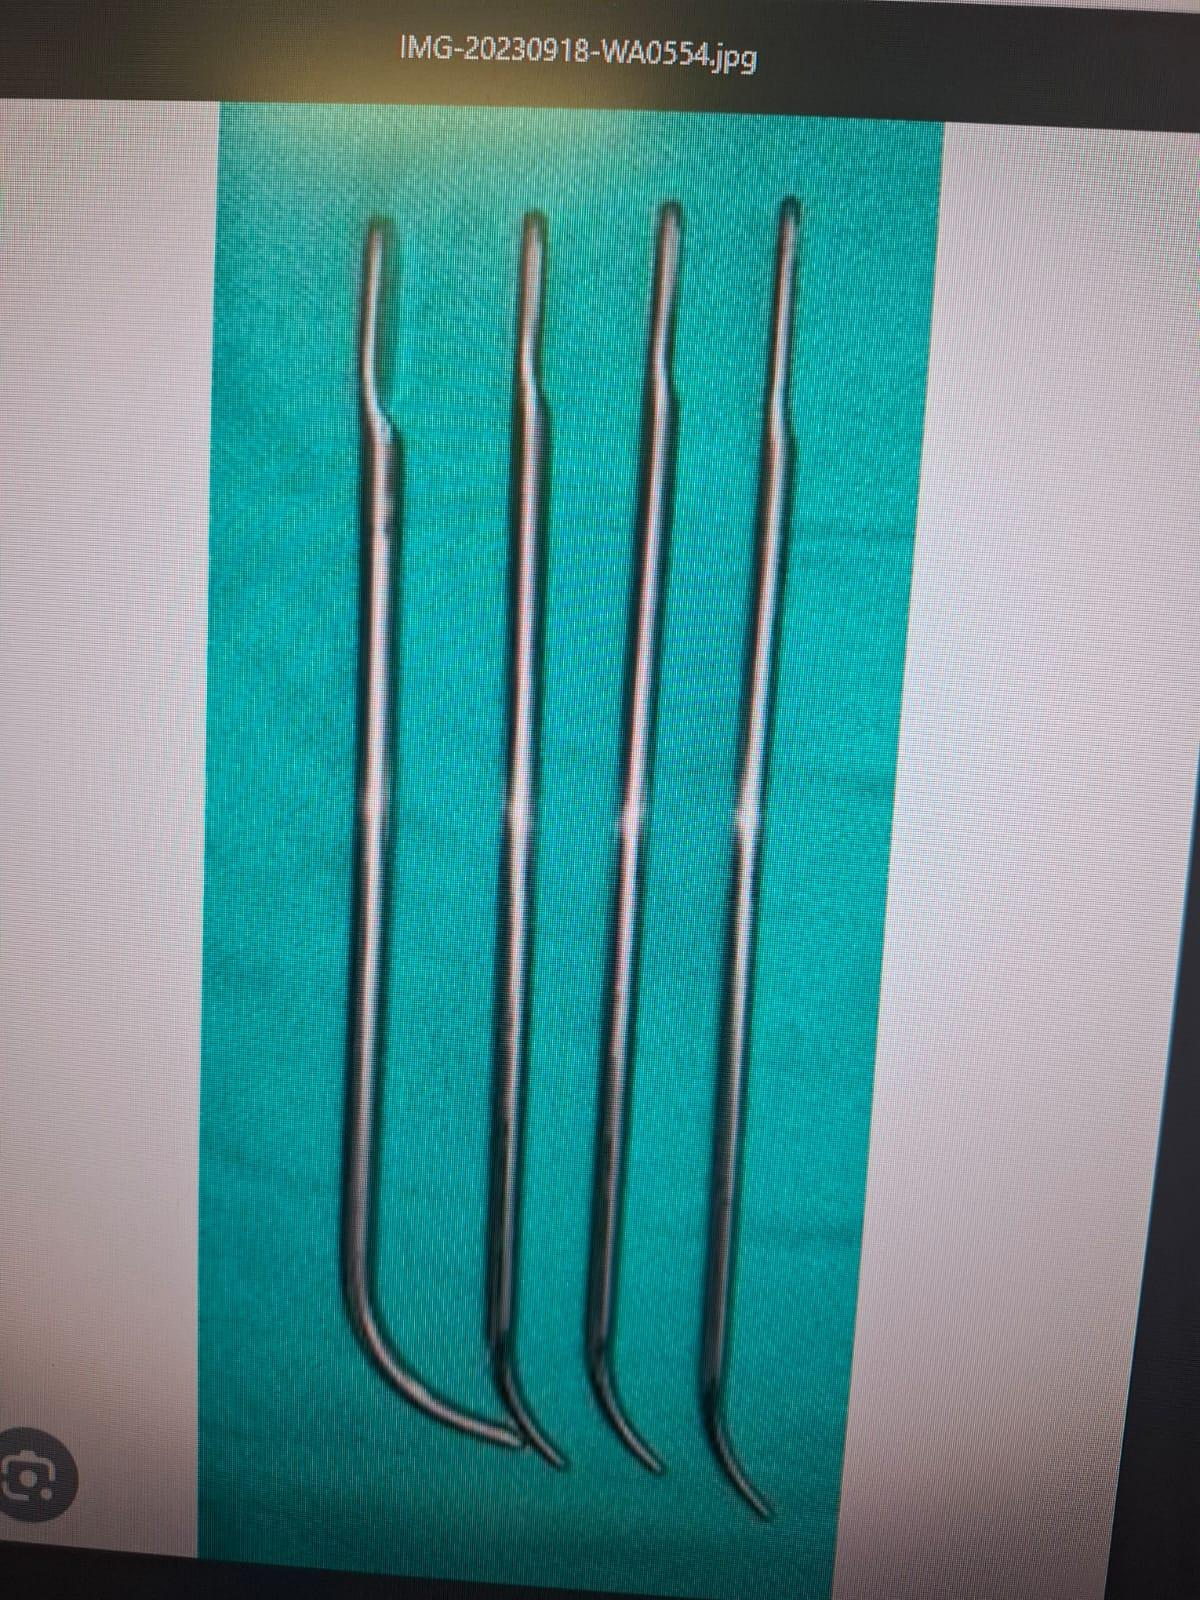Urethral Dilators: (662, 193, 885, 1538), (295, 195, 530, 1465), (555, 188, 740, 1482), (458, 198, 610, 1475)
